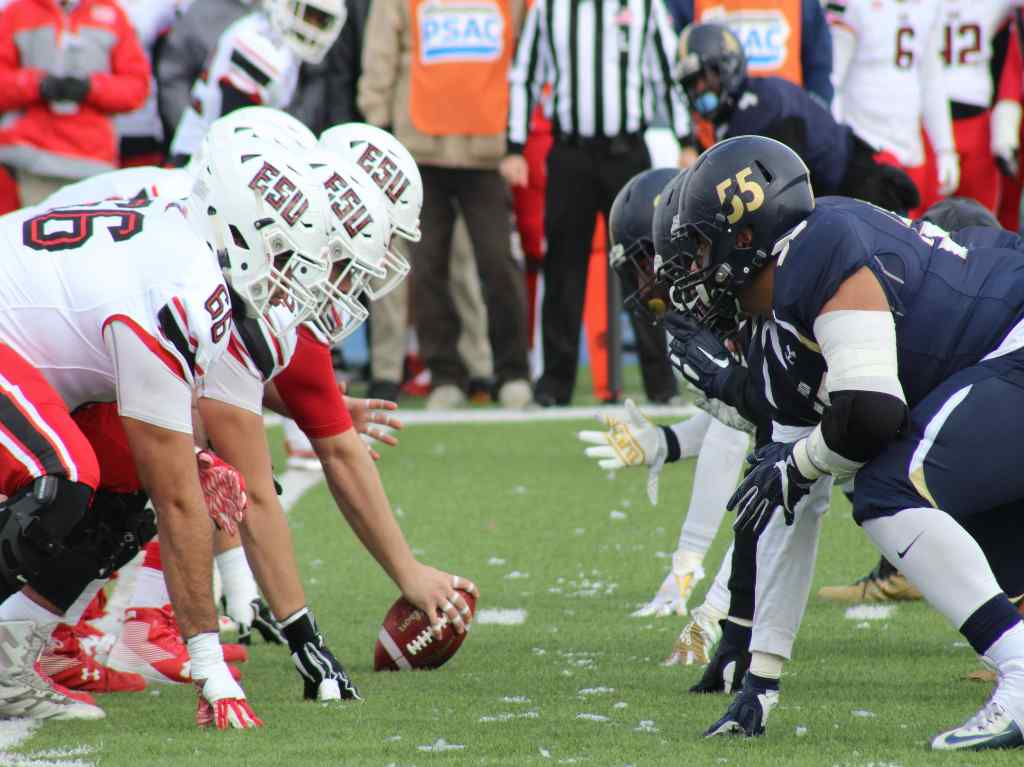futbol americano: (376, 585, 474, 671)
